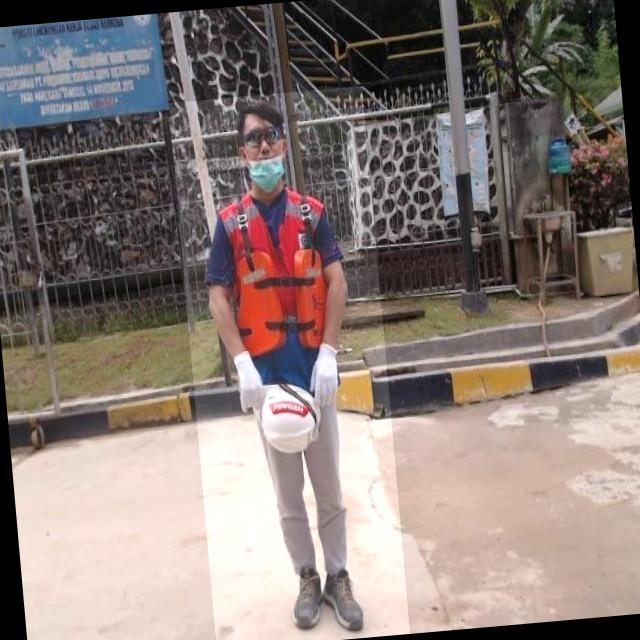Helmet: (246, 372, 331, 458)
Human: (168, 85, 409, 640)
Safety Boot: (320, 565, 369, 636), (290, 564, 327, 629)
Safety Vest: (216, 181, 343, 394)
